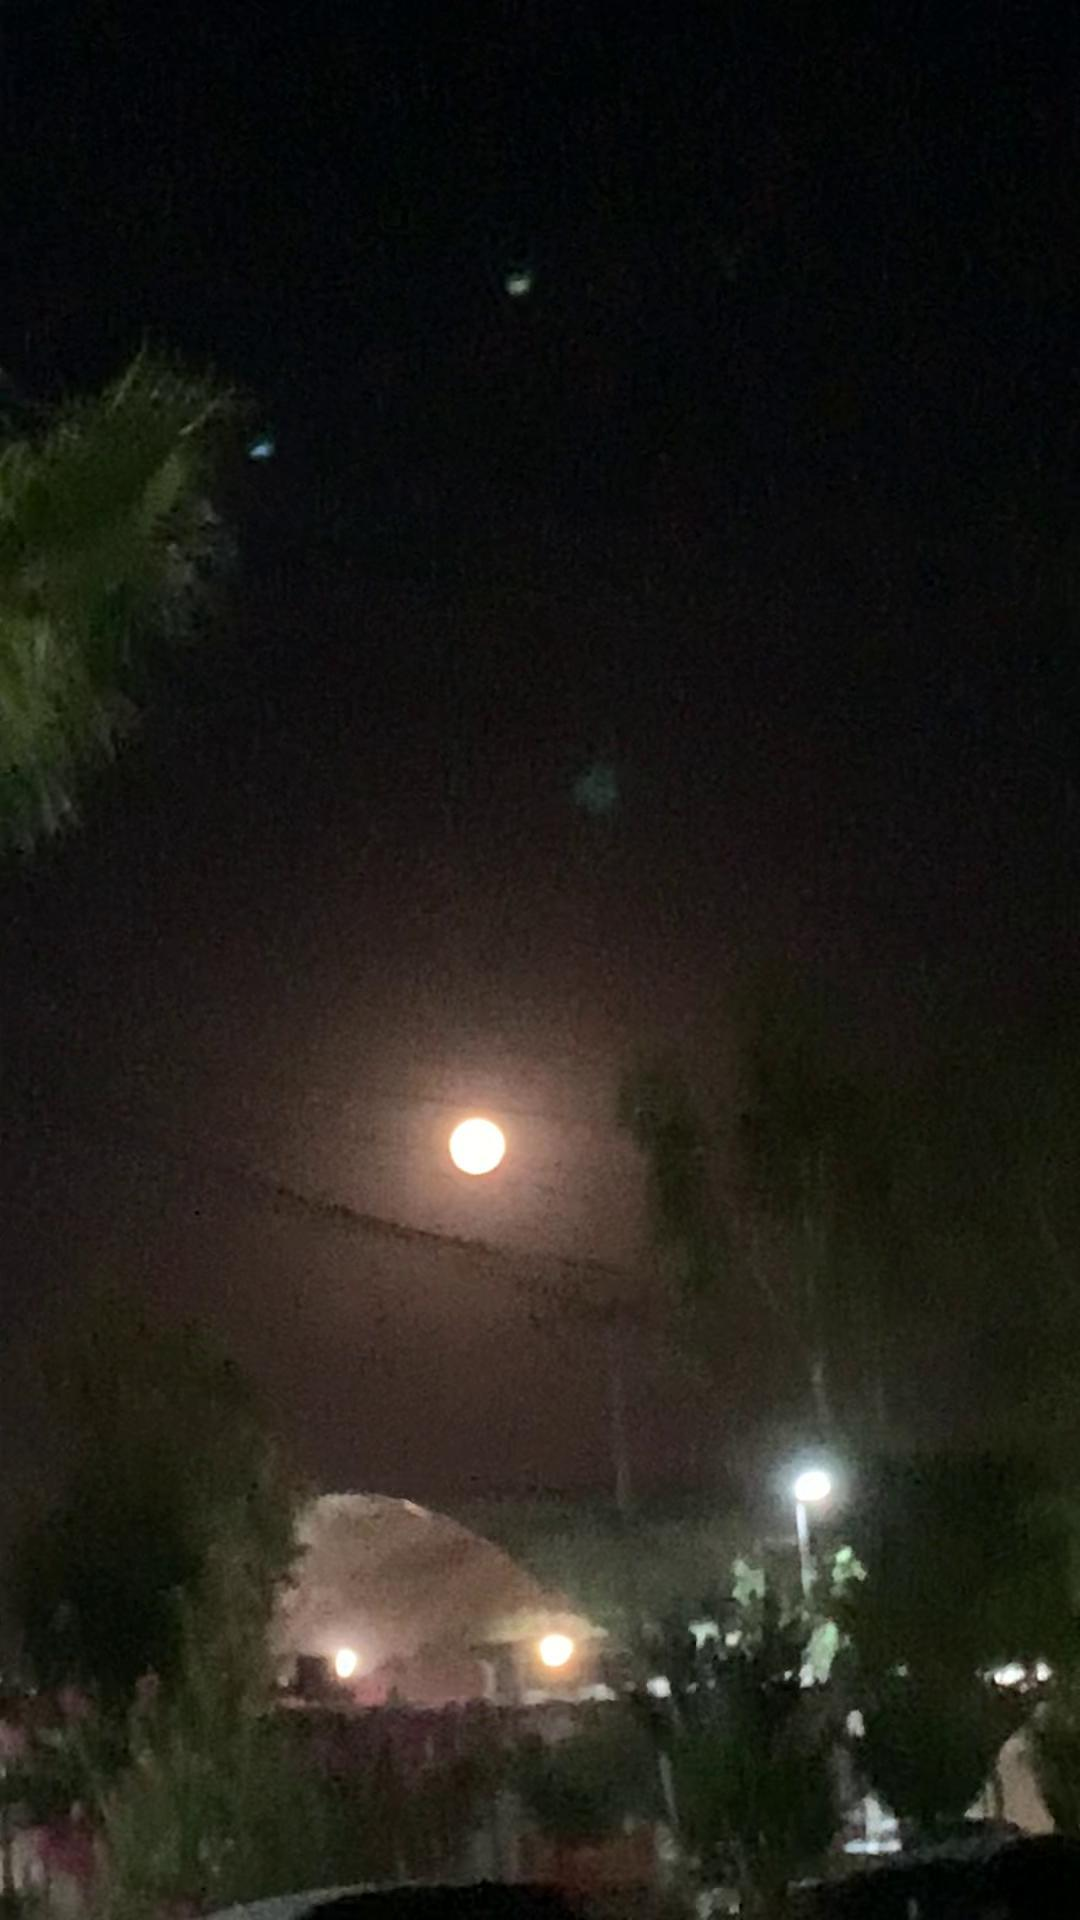moon: (421, 1089, 529, 1184)
